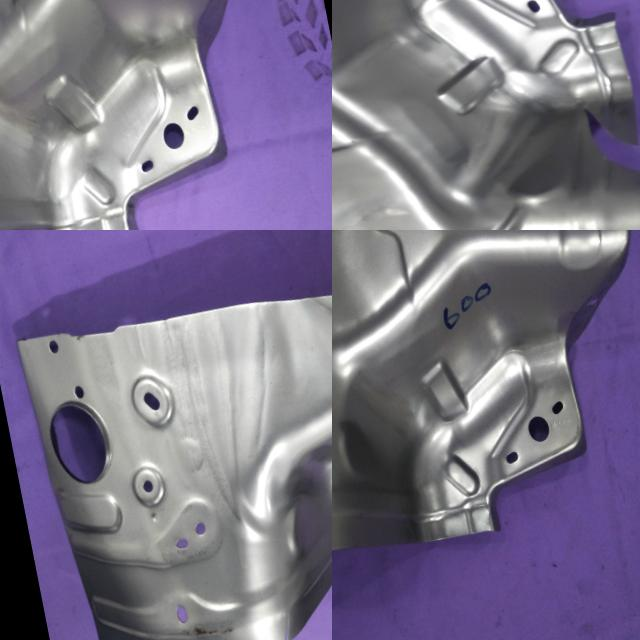Defect: (533, 84, 640, 206), (0, 207, 54, 230), (276, 602, 299, 640)
Healthy: (332, 230, 640, 602)
rust: (153, 607, 283, 640)
